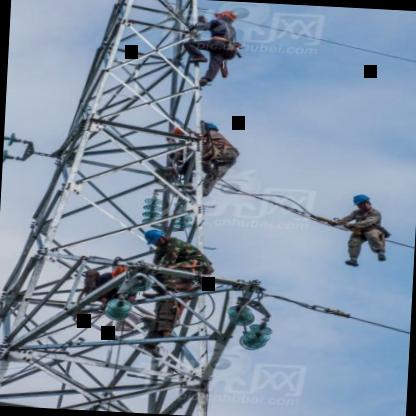helmet: (346, 192, 378, 214), (141, 226, 171, 248), (198, 118, 222, 139), (214, 10, 236, 26)
